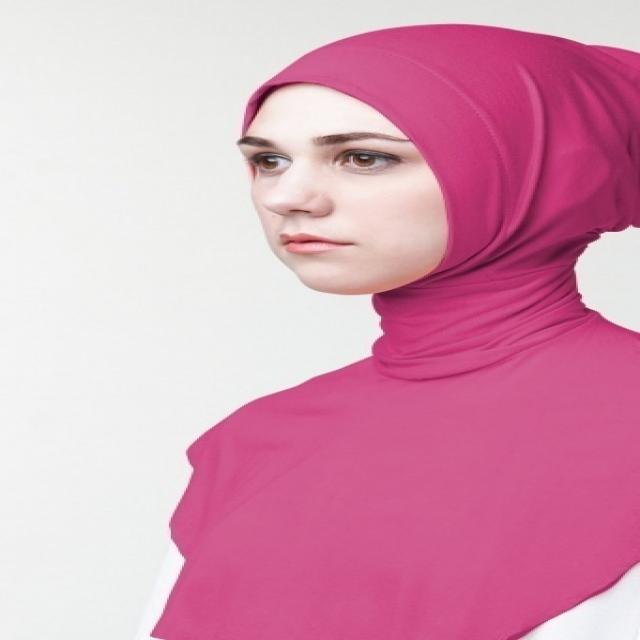head: (233, 23, 640, 301)
